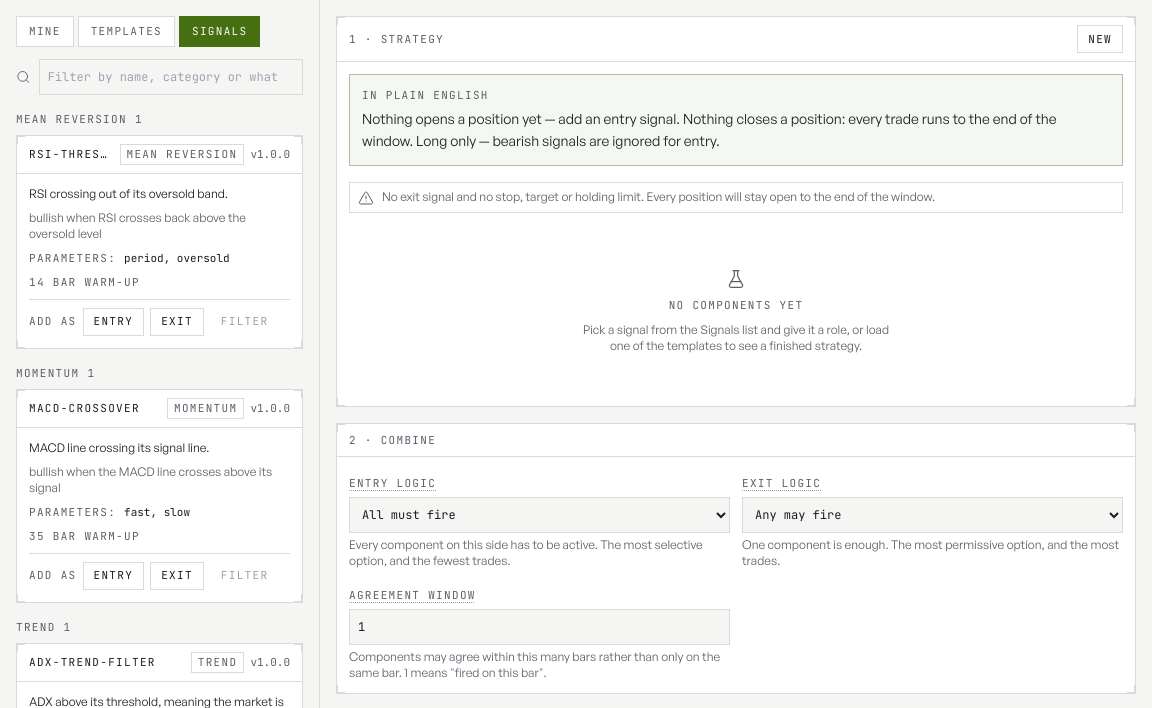
Test: StrategyBuilder › rewrites the plain-English summary as the strategy is assembled
Check: the text with test id "strategy-summary" shows "Nothing opens a position yet", box [362, 110, 1056, 149]
Step 1. Click the button "Entry" below "14" → point(113, 322), box [82, 308, 144, 336]
(page scrolled)
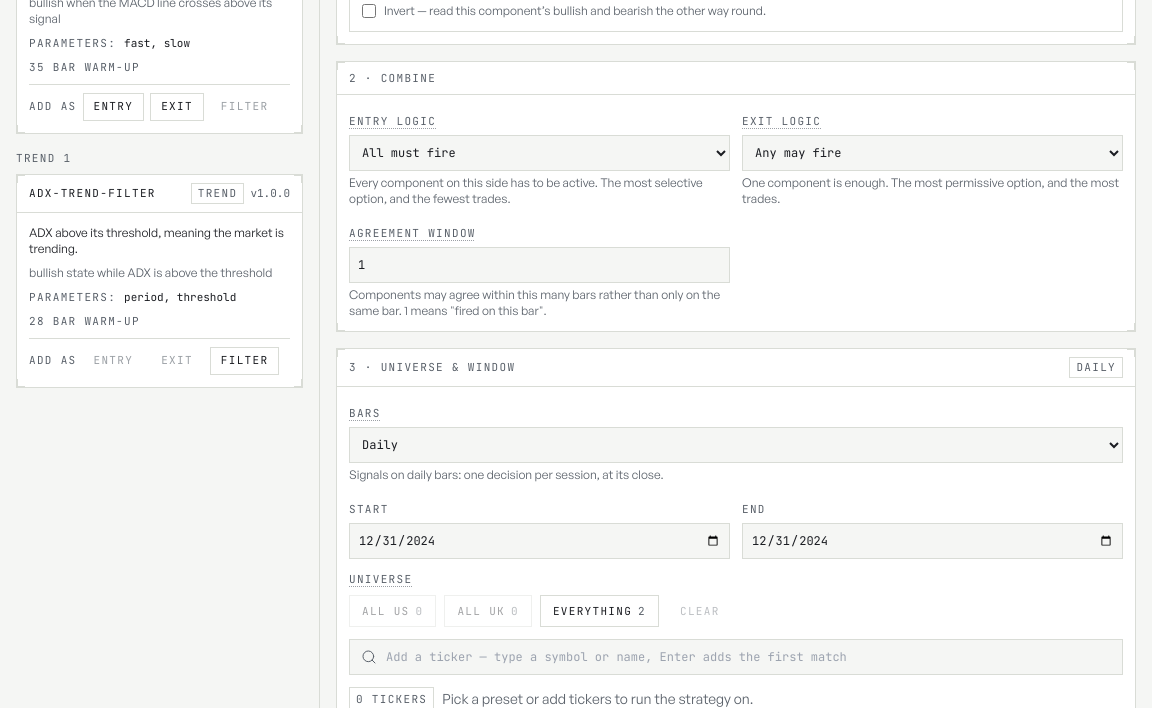
Step 2. Click the button "Filter" below "28" → point(245, 360), box [210, 346, 279, 374]
(page scrolled)
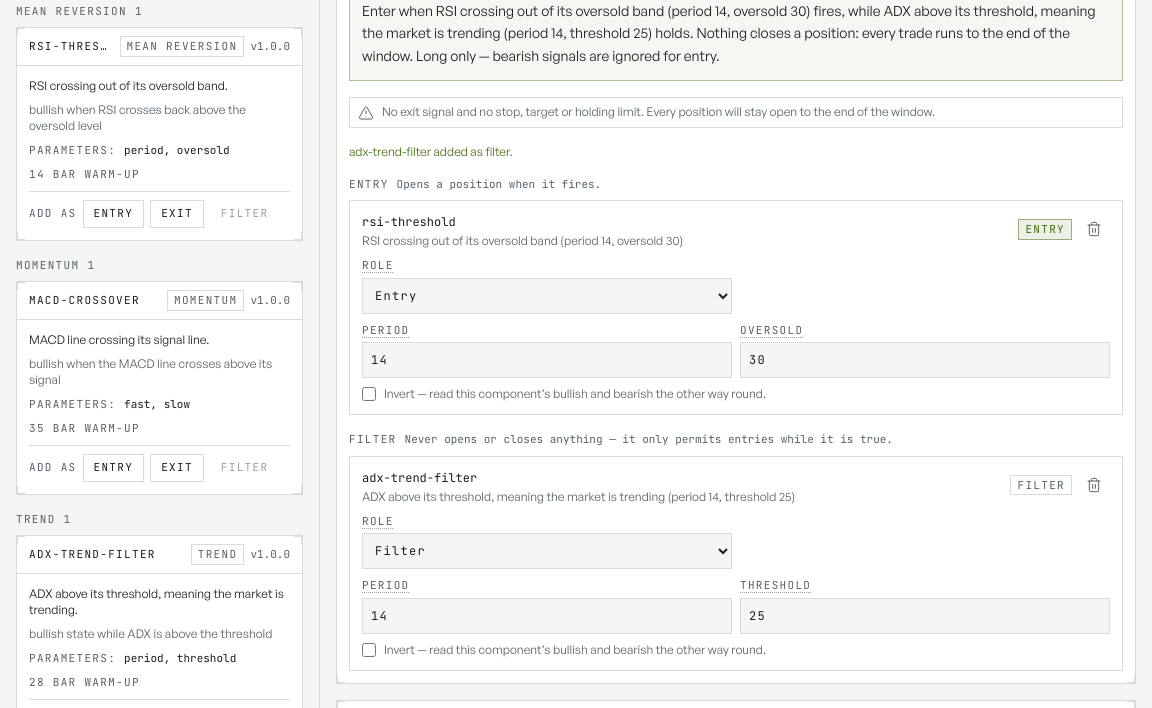
Check: the text with test id "strategy-summary" shows "while ADX above", box [362, 2, 1096, 64]
// And it follows a parameter edit, not just the component list.
Step 3. Replace the text in the number field named "period for rsi-threshold" with "7" → point(547, 360), box [362, 342, 732, 378]
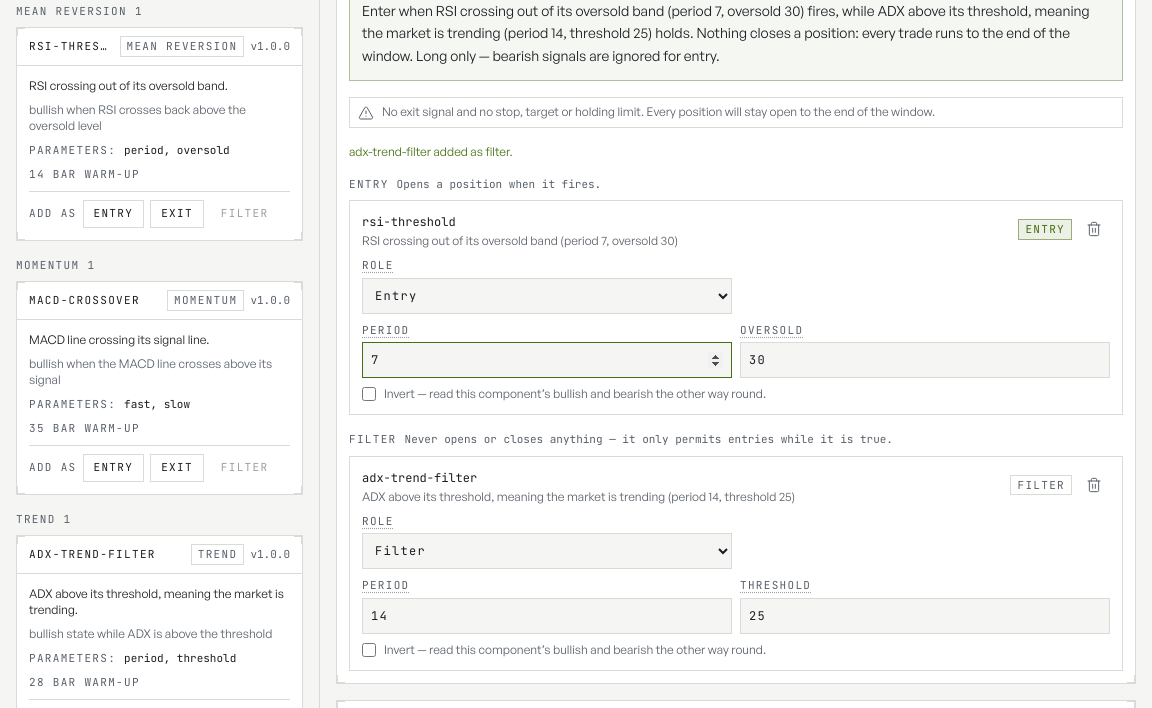
Check: the text with test id "strategy-summary" shows "period 7", box [362, 2, 1090, 64]
